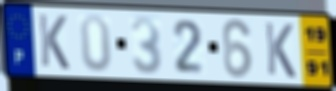0: (78, 12, 113, 74)
2: (172, 18, 206, 75)
3: (130, 14, 164, 77)
6: (219, 17, 257, 81)
K: (36, 12, 72, 72), (263, 20, 298, 81)
